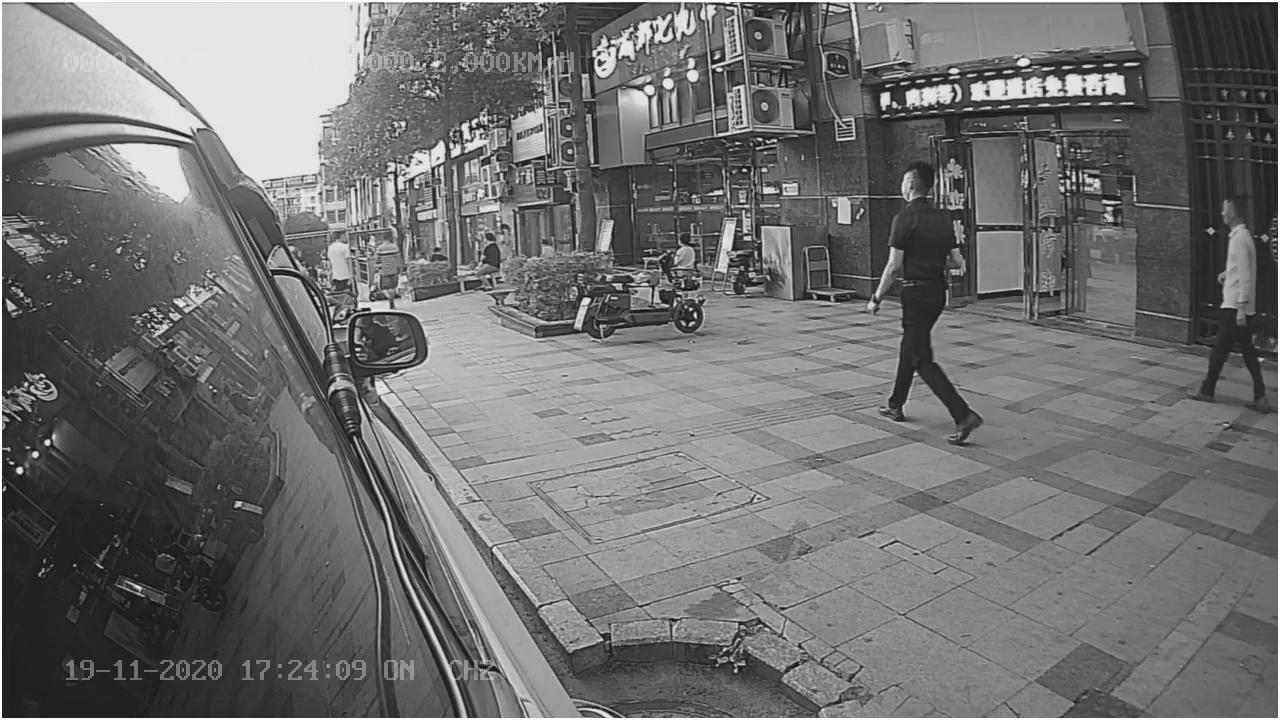person: (867, 163, 991, 452), (1196, 188, 1270, 412)
